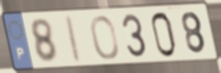0: (149, 10, 179, 58)
3: (121, 12, 148, 60)
8: (30, 16, 61, 66), (181, 10, 208, 55)
I: (65, 13, 84, 66)
O: (89, 14, 121, 61)
